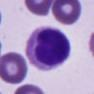M: (26, 26, 72, 72)
